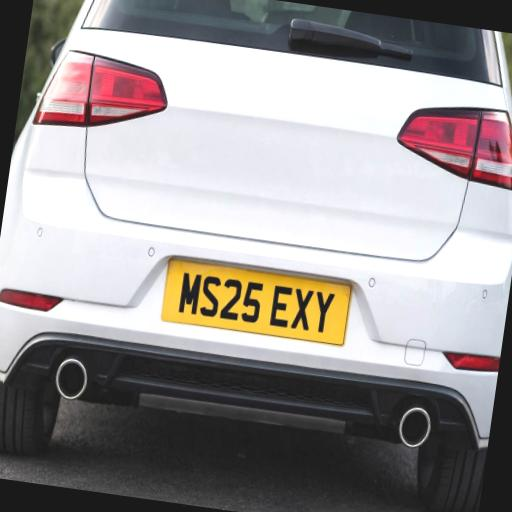numberplates: (162, 260, 351, 346)
